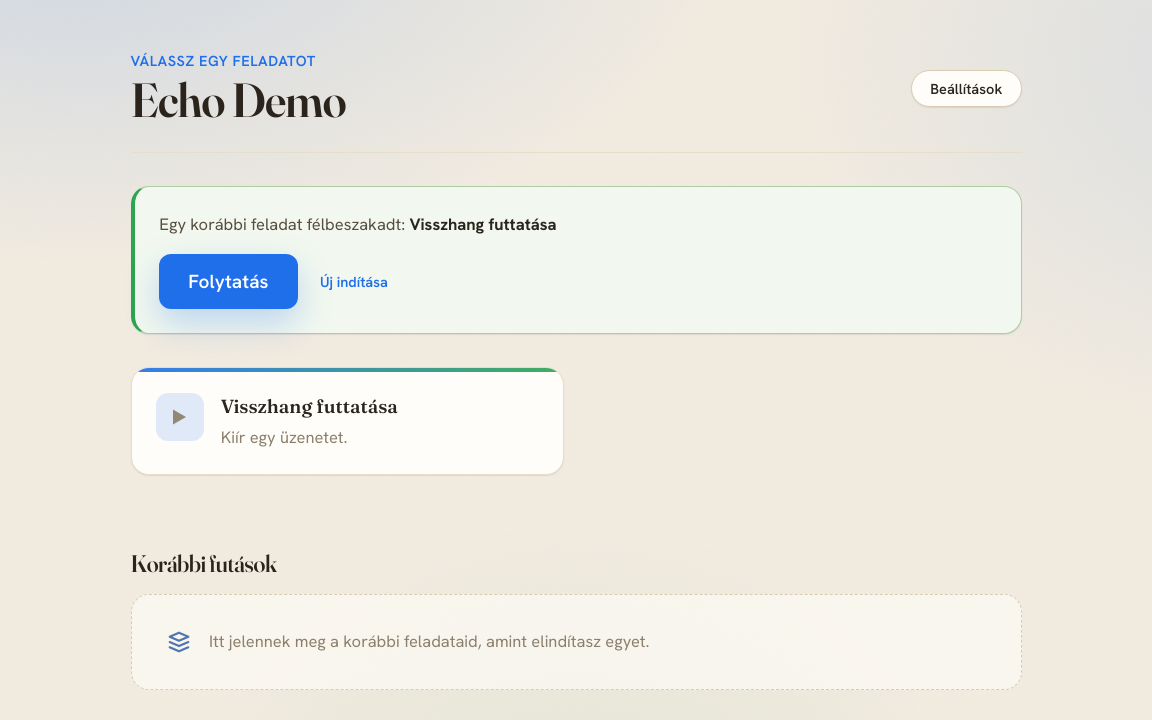
it: home resume offer (FR-7.2) › Új indítása declines the offer so the stale run is finalized and not re-offered
Click the button "Új indítása": (354, 281) [314, 267, 394, 296]
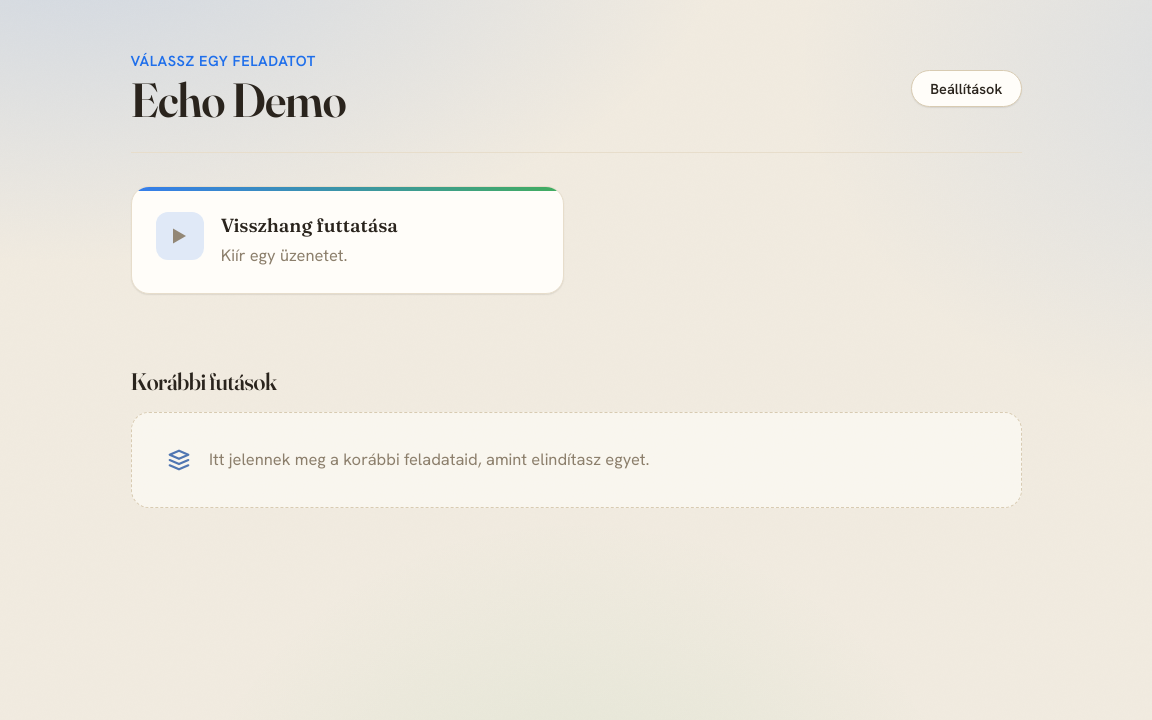
Expected: the button "Folytatás" is gone
